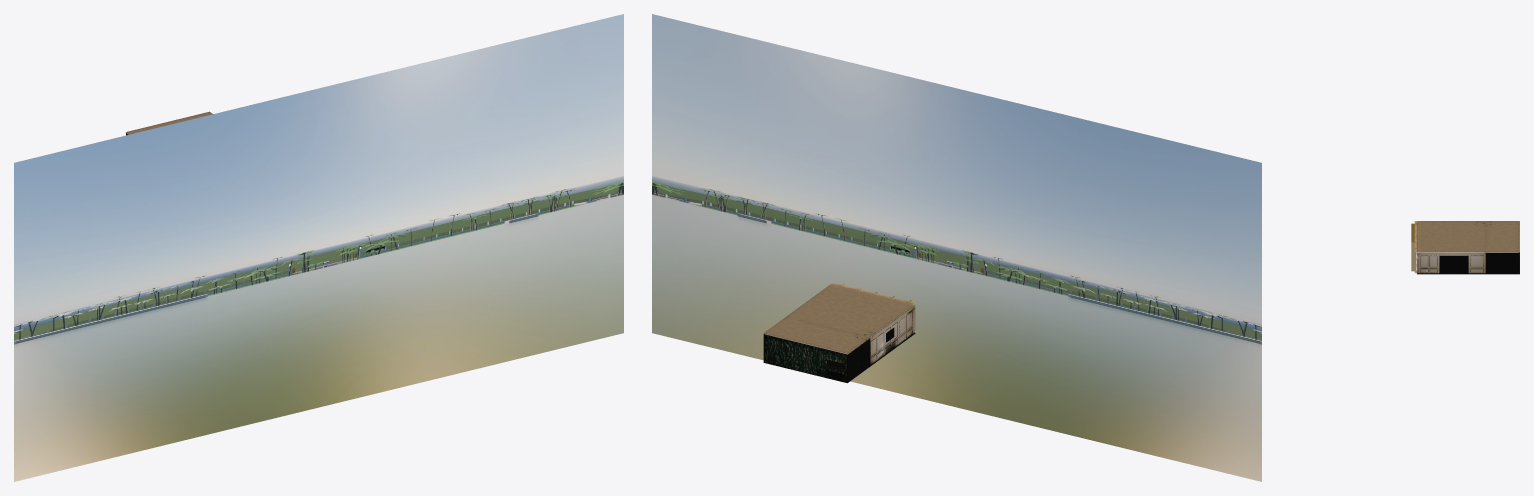
The model's file is int_eko_r3.glb.
3 views of the same model, side by side, from view 1: azimuth 30°, elevation 25°; view 2: azimuth 150°, elevation 25°; view 3: azimuth 270°, elevation 25° (orthographic). The views are drawn at different scales.
Visible parts, largest first — view 1: VIEW_front; view 2: VIEW_front, ROOM; view 3: ROOM.
Boxes of the visible parts, x1=… form: VIEW_front: x1=14, y1=14, x2=623, y2=481; VIEW_front: x1=652, y1=14, x2=1261, y2=481; ROOM: x1=763, y1=282, x2=916, y2=383; ROOM: x1=1411, y1=221, x2=1519, y2=274.
Size of the model in its own units: 72 by 36 by 30.97.
Materials: 3 (2 with a texture image).
